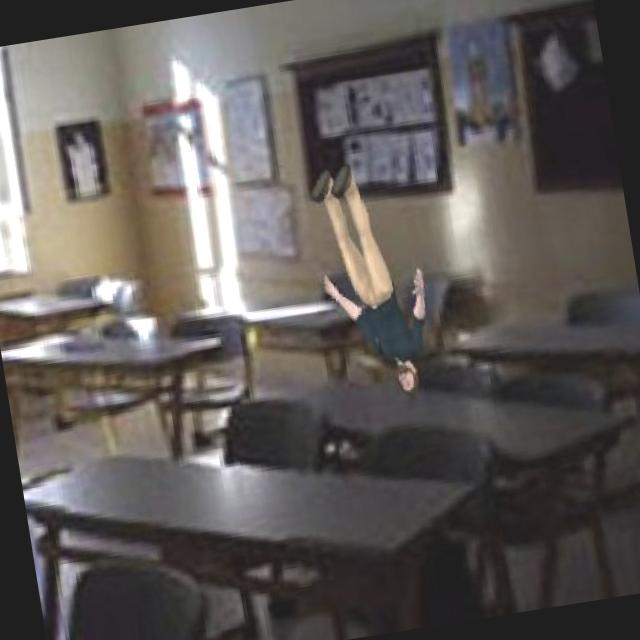Person: (296, 144, 444, 410)
